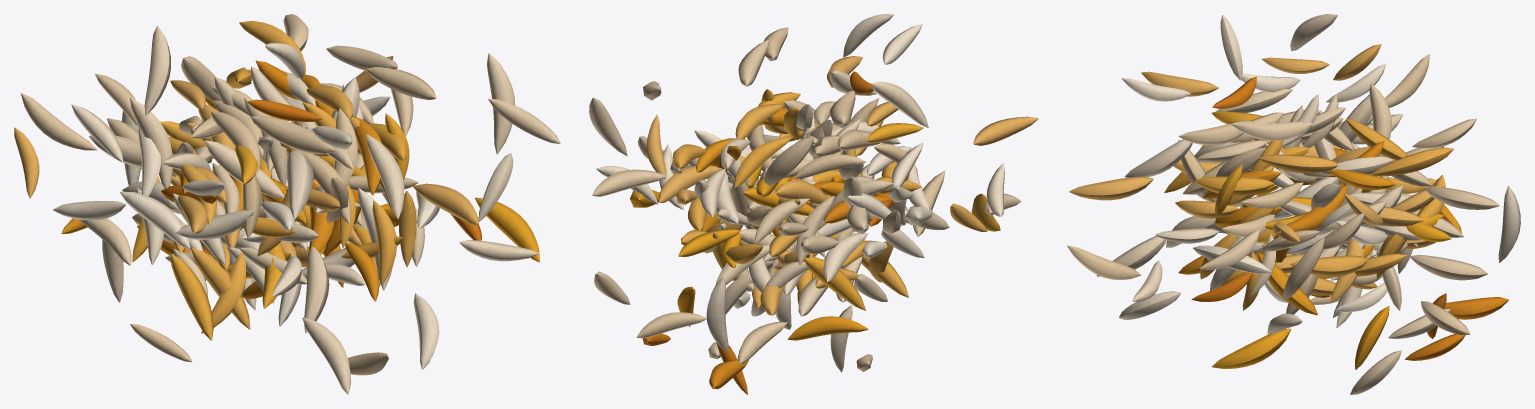
File: basmati-rice-cluster.glb
3 views of the same model, side by side, from view 1: azimuth 30°, elevation 25°; view 2: azimuth 150°, elevation 25°; view 3: azimuth 270°, elevation 25° (orthographic). The views are drawn at different scales.
Visible parts, largest first — view 1: rice-grain-cloud; view 2: rice-grain-cloud; view 3: rice-grain-cloud.
Boxes of the visible parts, x1,y1,x2,y2 form: rice-grain-cloud: [14, 14, 560, 394]; rice-grain-cloud: [589, 14, 1038, 394]; rice-grain-cloud: [1067, 14, 1520, 394].
Bounding box in the file's own units: 0.0928 × 0.0675 × 0.091.
Materials: 1 (1 with a texture image).
